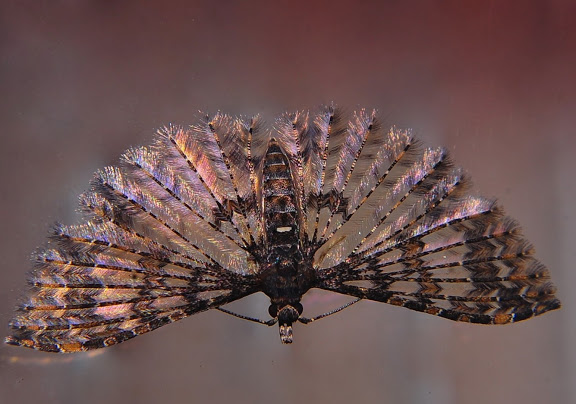Alucitidae: (7, 102, 561, 358)
moth: (5, 100, 559, 356)
